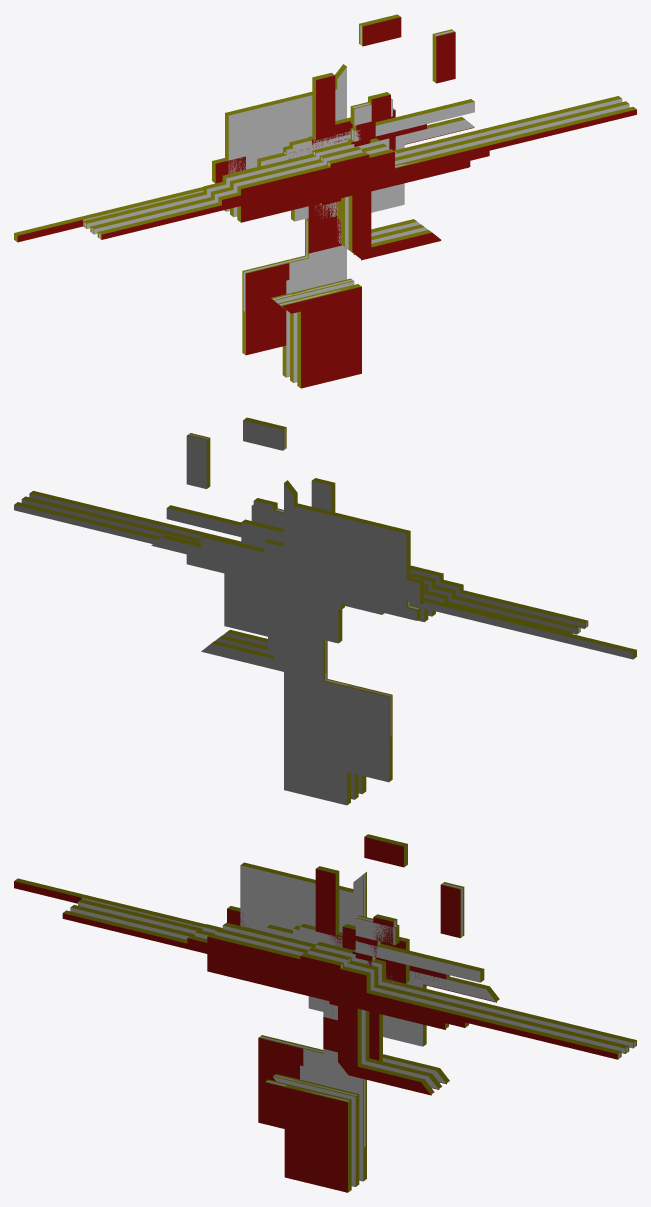
Rendered from idf.obj.
3 renders of one model, top to bottom at view 1: azimuth 30°, elevation 25°; view 2: azimuth 150°, elevation 25°; view 3: azimuth 330°, elevation 25°, orthographic. The views are drawn at different scales.
Bounding box in the file's own units: 286 × 155 × 21.34.
